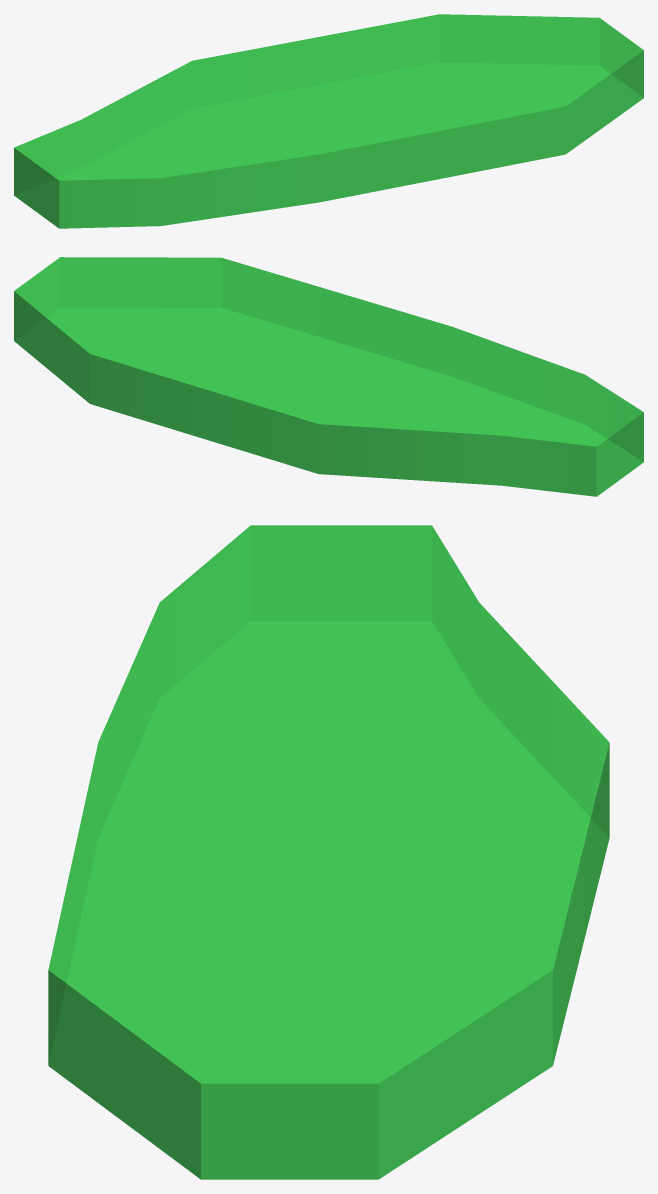
Rendered from Scree_03_Collider.fbx.
3 views of the same model, one above another, from view 1: azimuth 30°, elevation 25°; view 2: azimuth 150°, elevation 25°; view 3: azimuth 270°, elevation 25° (orthographic). The views are drawn at different scales.
Visible parts, largest first — view 1: Scree_03_Collider; view 2: Scree_03_Collider; view 3: Scree_03_Collider.
Part boxes in pixels (x1,y1,x2,y2): Scree_03_Collider: (14, 14, 643, 228); Scree_03_Collider: (14, 257, 643, 496); Scree_03_Collider: (48, 525, 609, 1179).
Bounding box in the file's own units: 2254 × 181 × 957.
